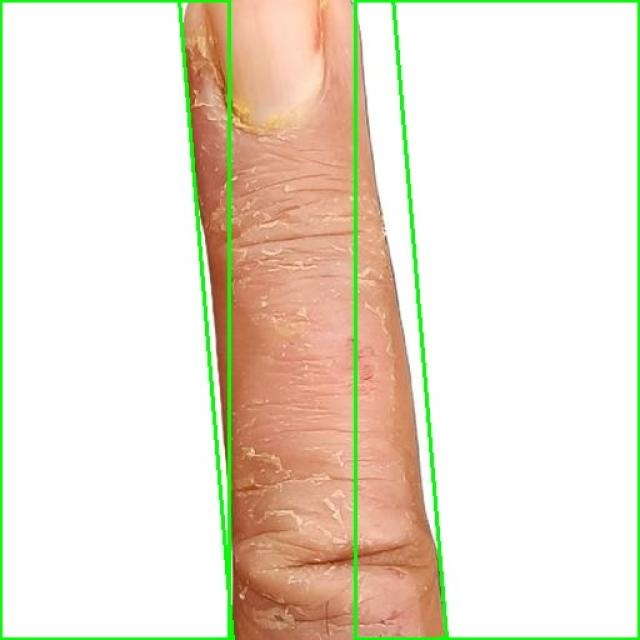Eczema: (355, 0, 639, 639), (179, 0, 447, 640), (0, 0, 229, 639)
